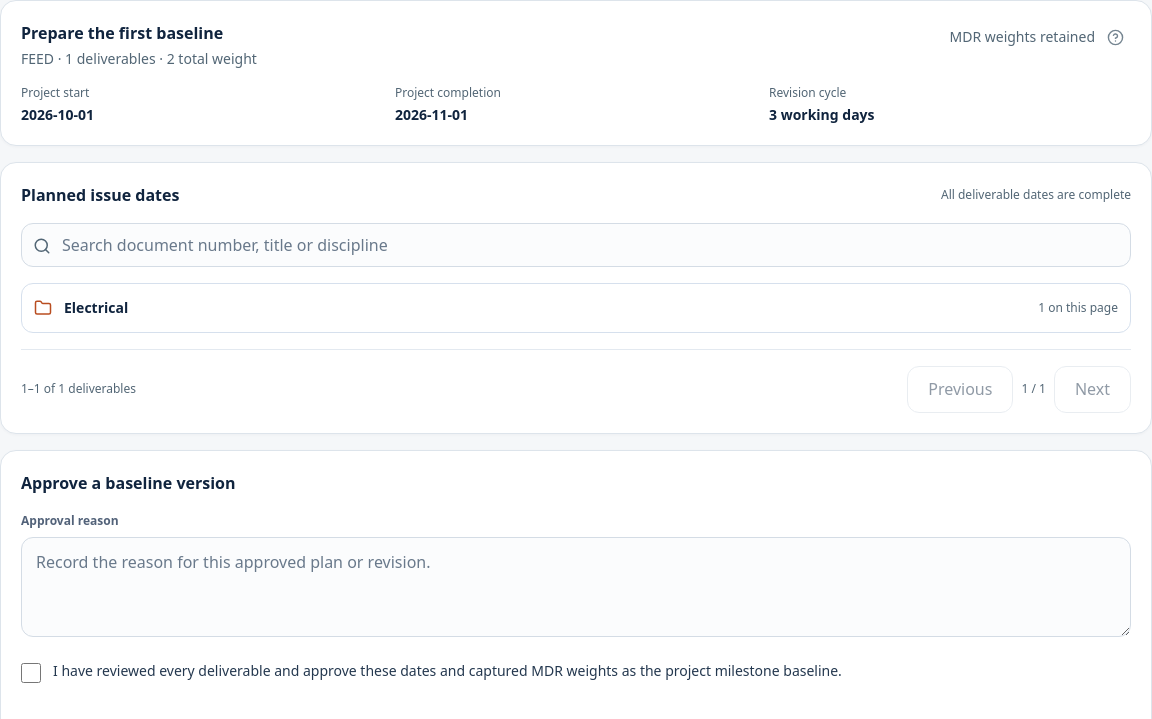
weighted milestone baseline editor › keeps discipline folders collapsed, labels every date and retains weights read-only
Click the heading "Electrical 1 on this page".
click(96, 308)  # box [34,298,1118,317]
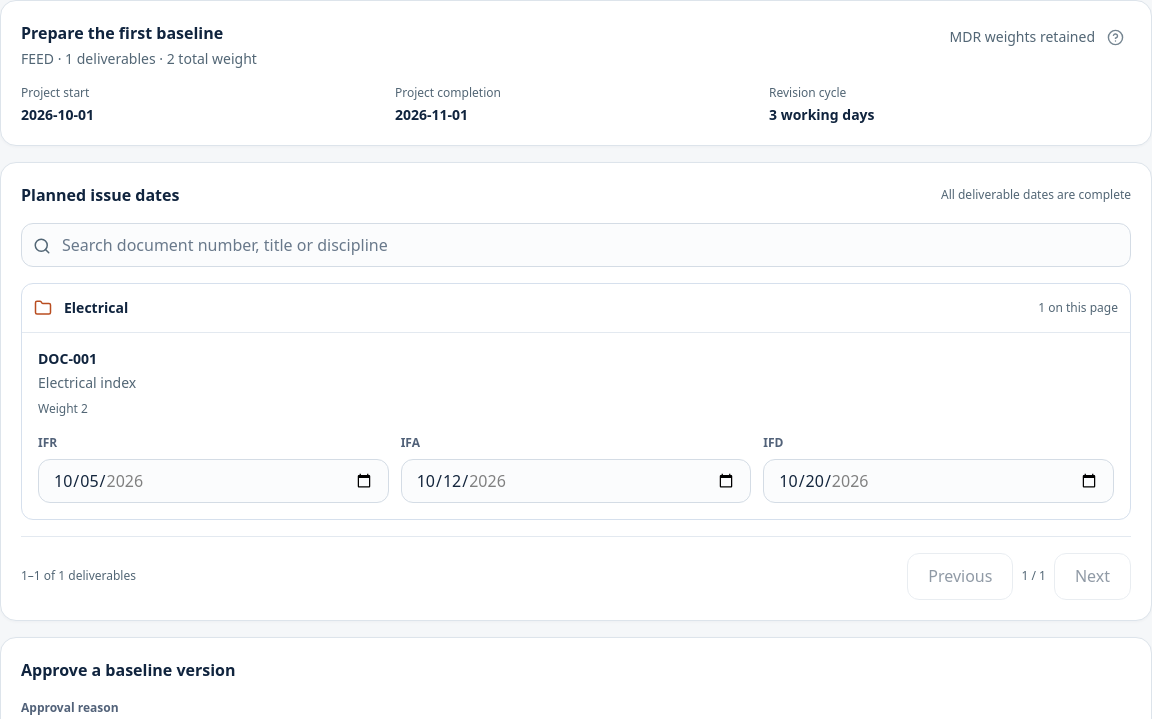
Expected: the text "All deliverable dates are complete" is shown, [941,187,1131,203]
Expected: the date field named "IFR date for DOC-001" holds "2026-10-05", [38,459,389,503]
Expected: the text "Weight 2" is shown, [38,400,88,417]
